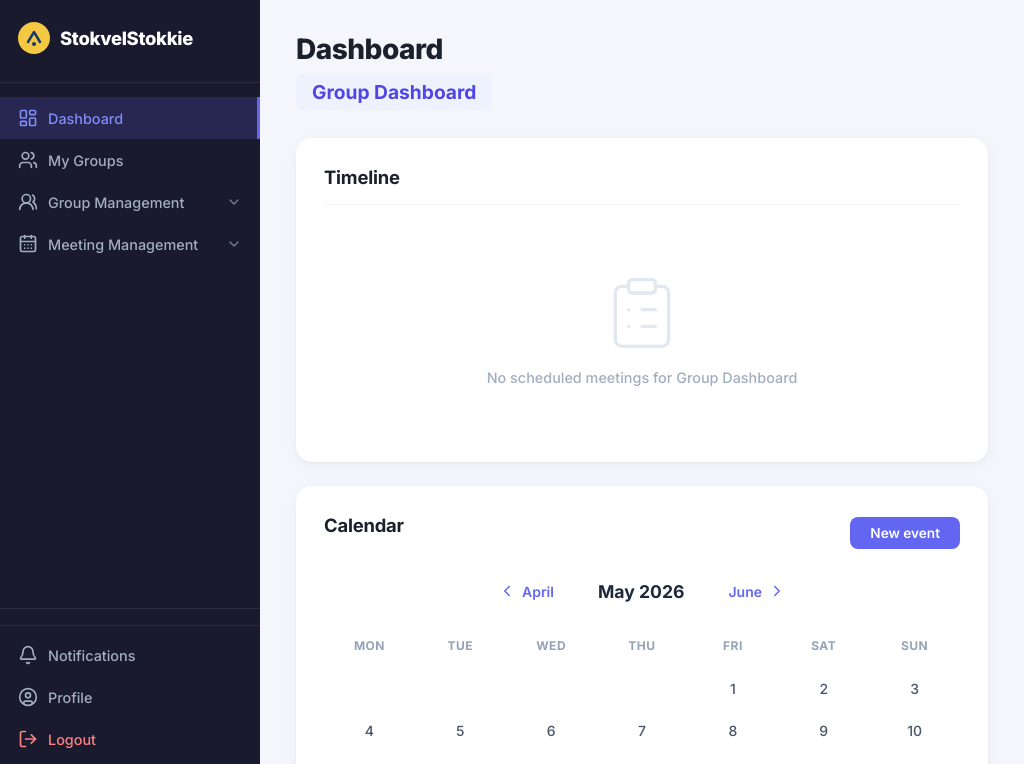
Scenario: AdminDashboard Component › navigates to View Members tab when clicked
Click the button "Group Management". click: click(130, 202)
box: [0, 181, 260, 223]
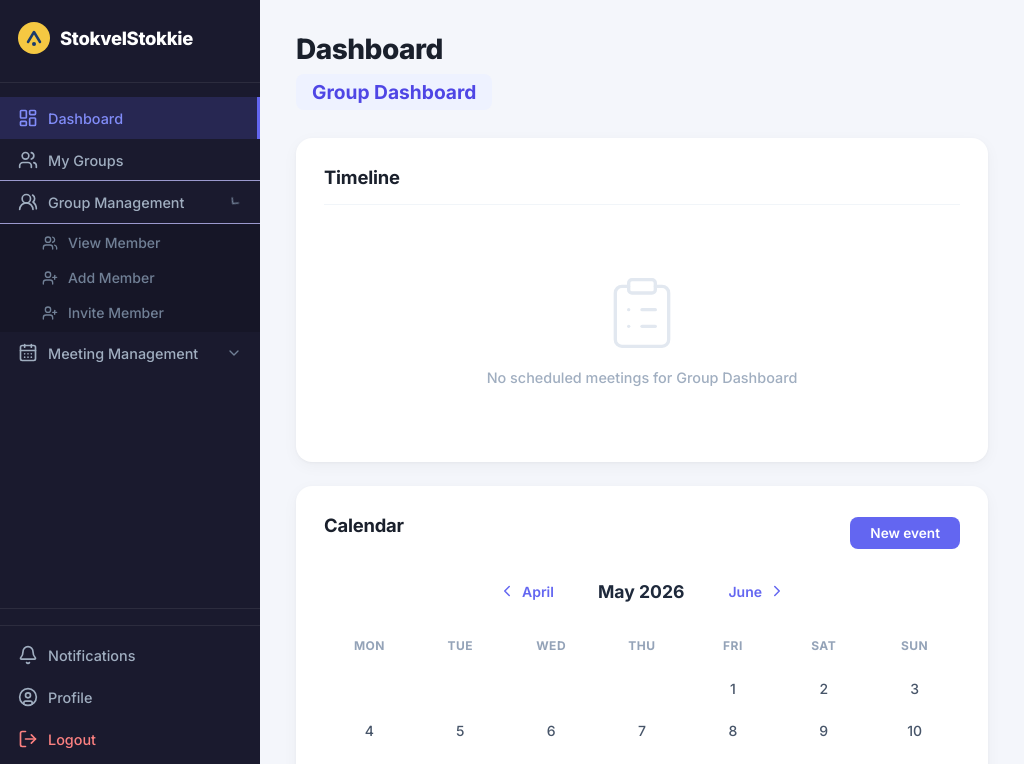
Click the button "View Member". click: click(130, 242)
box: [0, 225, 260, 260]
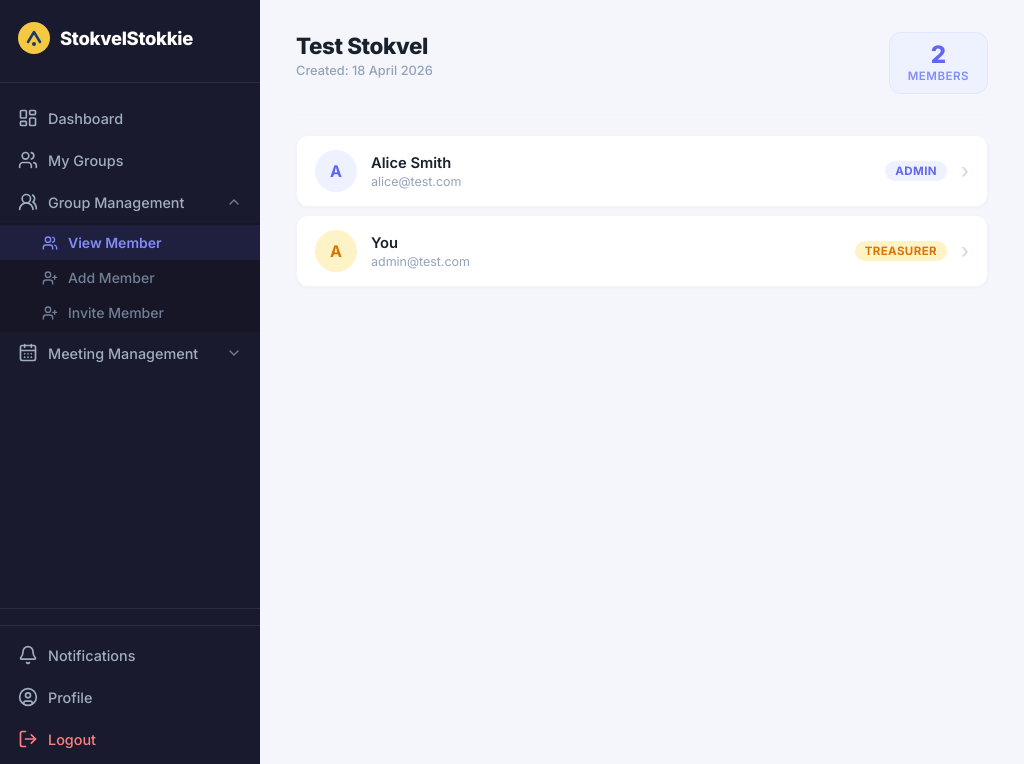
Result: the heading "Test Stokvel" is shown at [296, 32, 433, 59]
